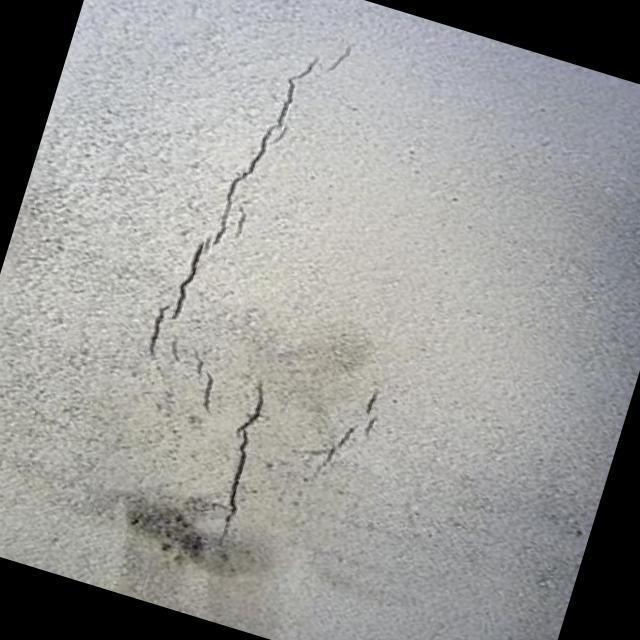defect: (144, 43, 357, 415), (215, 380, 267, 550), (317, 386, 385, 468)
